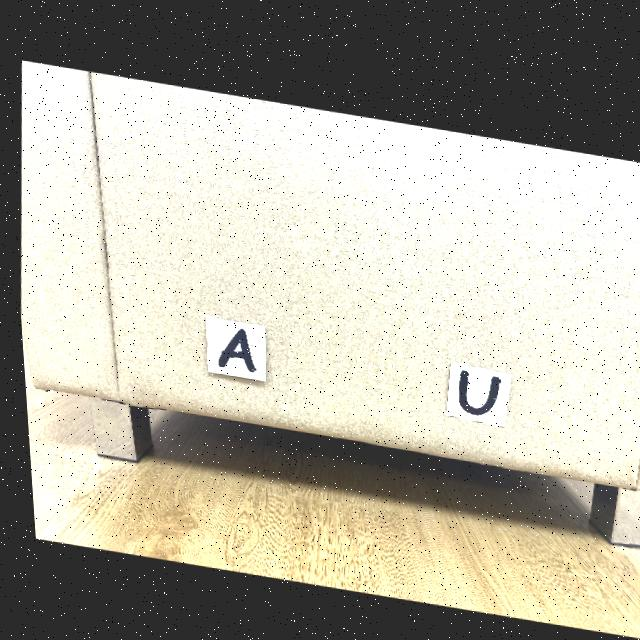A: (213, 324, 250, 367)
U: (454, 361, 495, 406)
